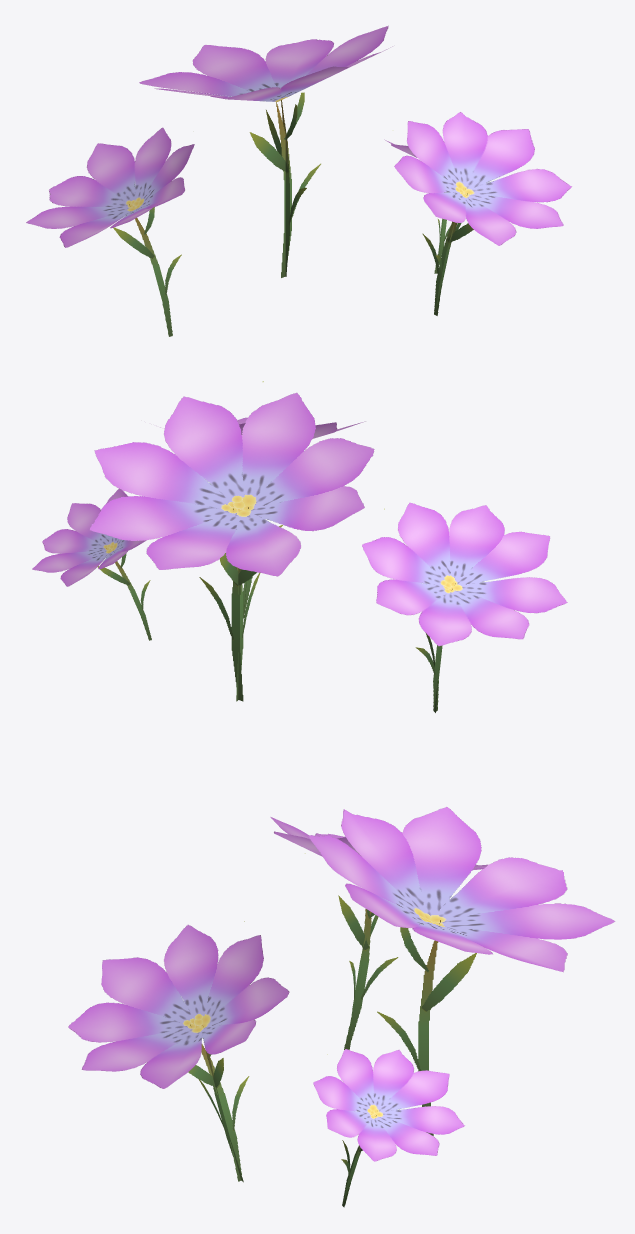
Rendered from Flower.FBX.
3 views of the same model, one above another, from view 1: azimuth 30°, elevation 25°; view 2: azimuth 150°, elevation 25°; view 3: azimuth 270°, elevation 25° (orthographic). The views are drawn at different scales.
Parts seen in each view (by area): view 1: Object001; view 2: Object001; view 3: Object001.
Part boxes in pixels (x1=…): Object001: x1=26, y1=25, x2=571, y2=336; Object001: x1=32, y1=381, x2=567, y2=712; Object001: x1=68, y1=807, x2=615, y2=1207.
Size of the model in its own units: 5.47 by 2.51 by 4.46.
